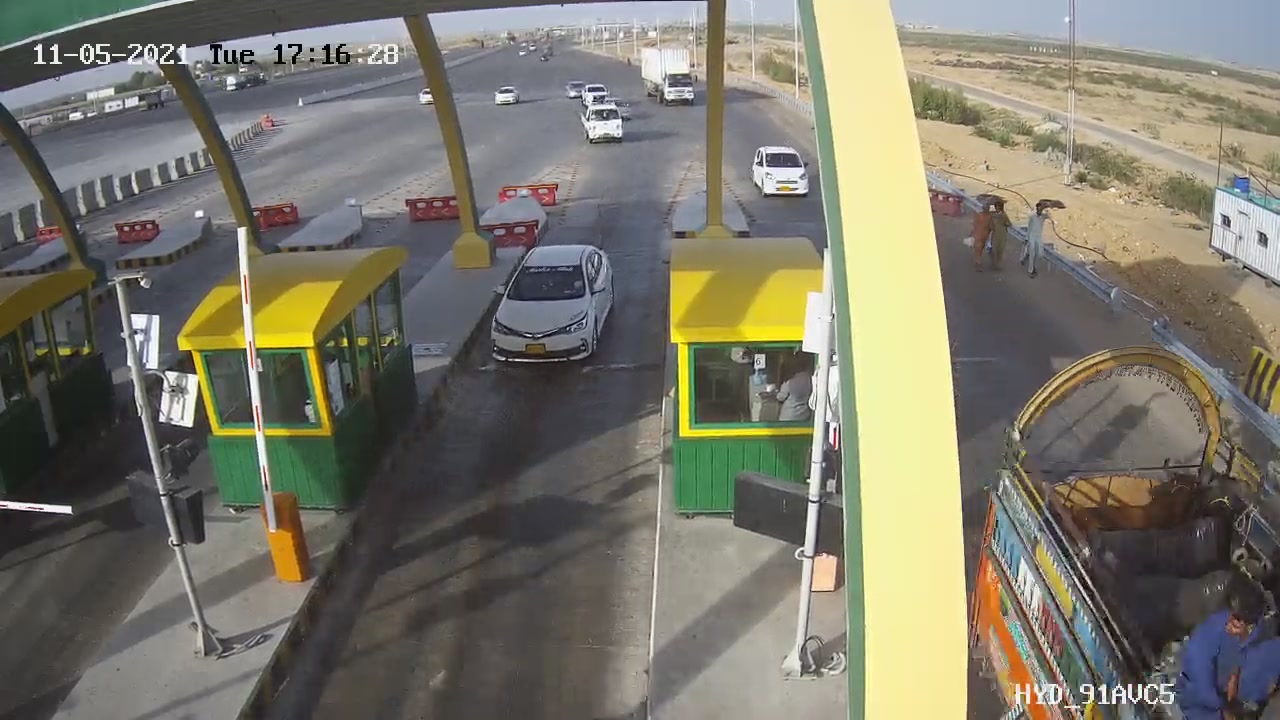F1: (473, 234, 627, 382)
